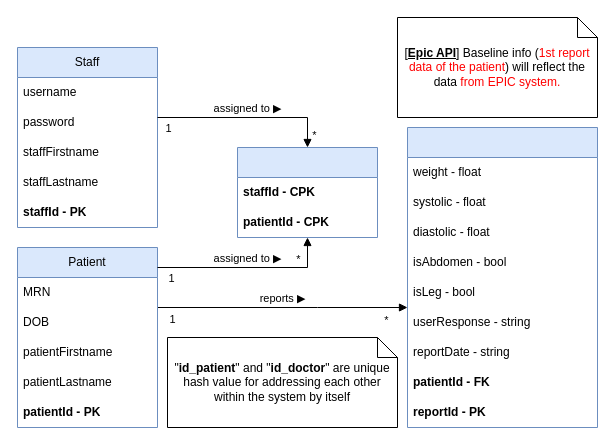
Image size: 615x445. Some labels were removed from this diagram. The box of each missing label's shape, as (x1, y1, x2, y2) in pixels:
PatientDailyReport: (406, 126, 598, 428)
StaffPatientPair: (236, 146, 378, 238)
